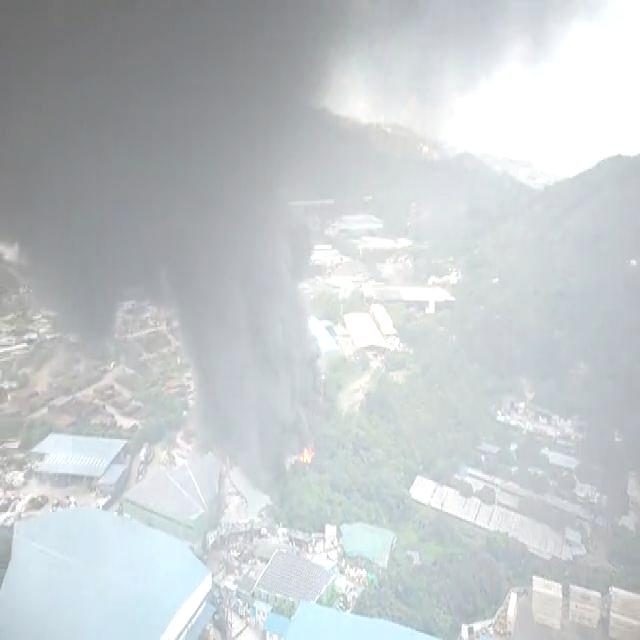smoke: (2, 3, 181, 312), (184, 9, 348, 270), (356, 3, 580, 122), (195, 280, 319, 460)
